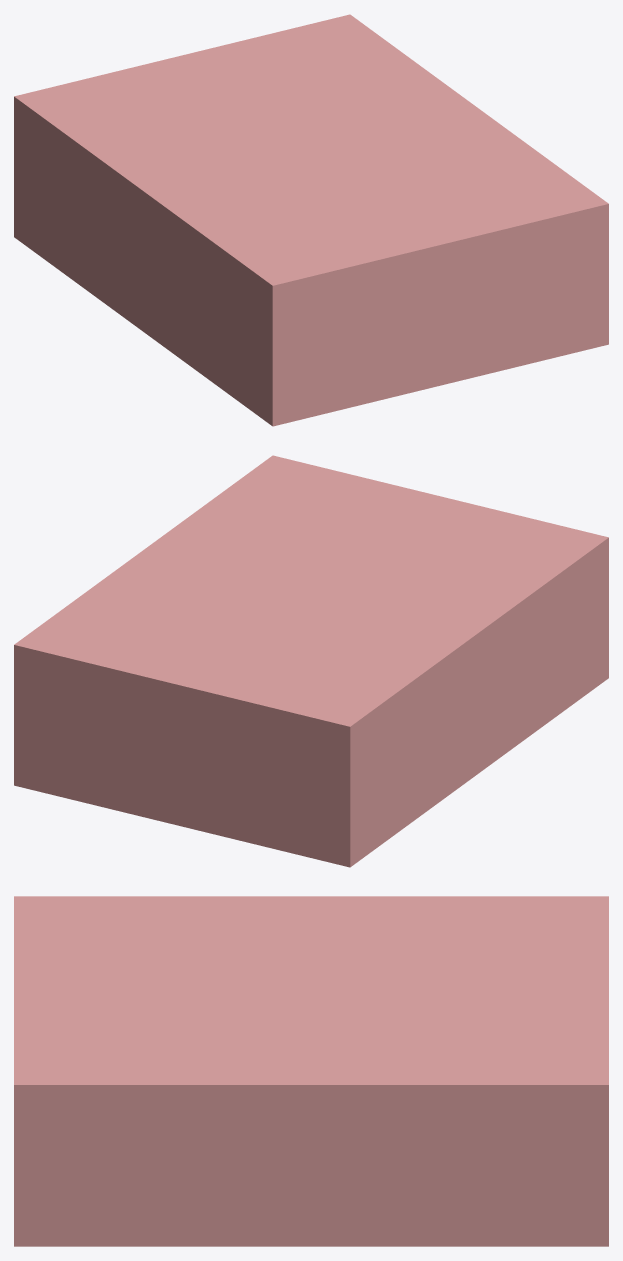
File: tank.gltf
3 renders of one model, top to bottom at view 1: azimuth 30°, elevation 25°; view 2: azimuth 150°, elevation 25°; view 3: azimuth 270°, elevation 25°, orthographic. The views are drawn at different scales.
Size of the model in its own units: 1.5 by 0.6 by 2.
